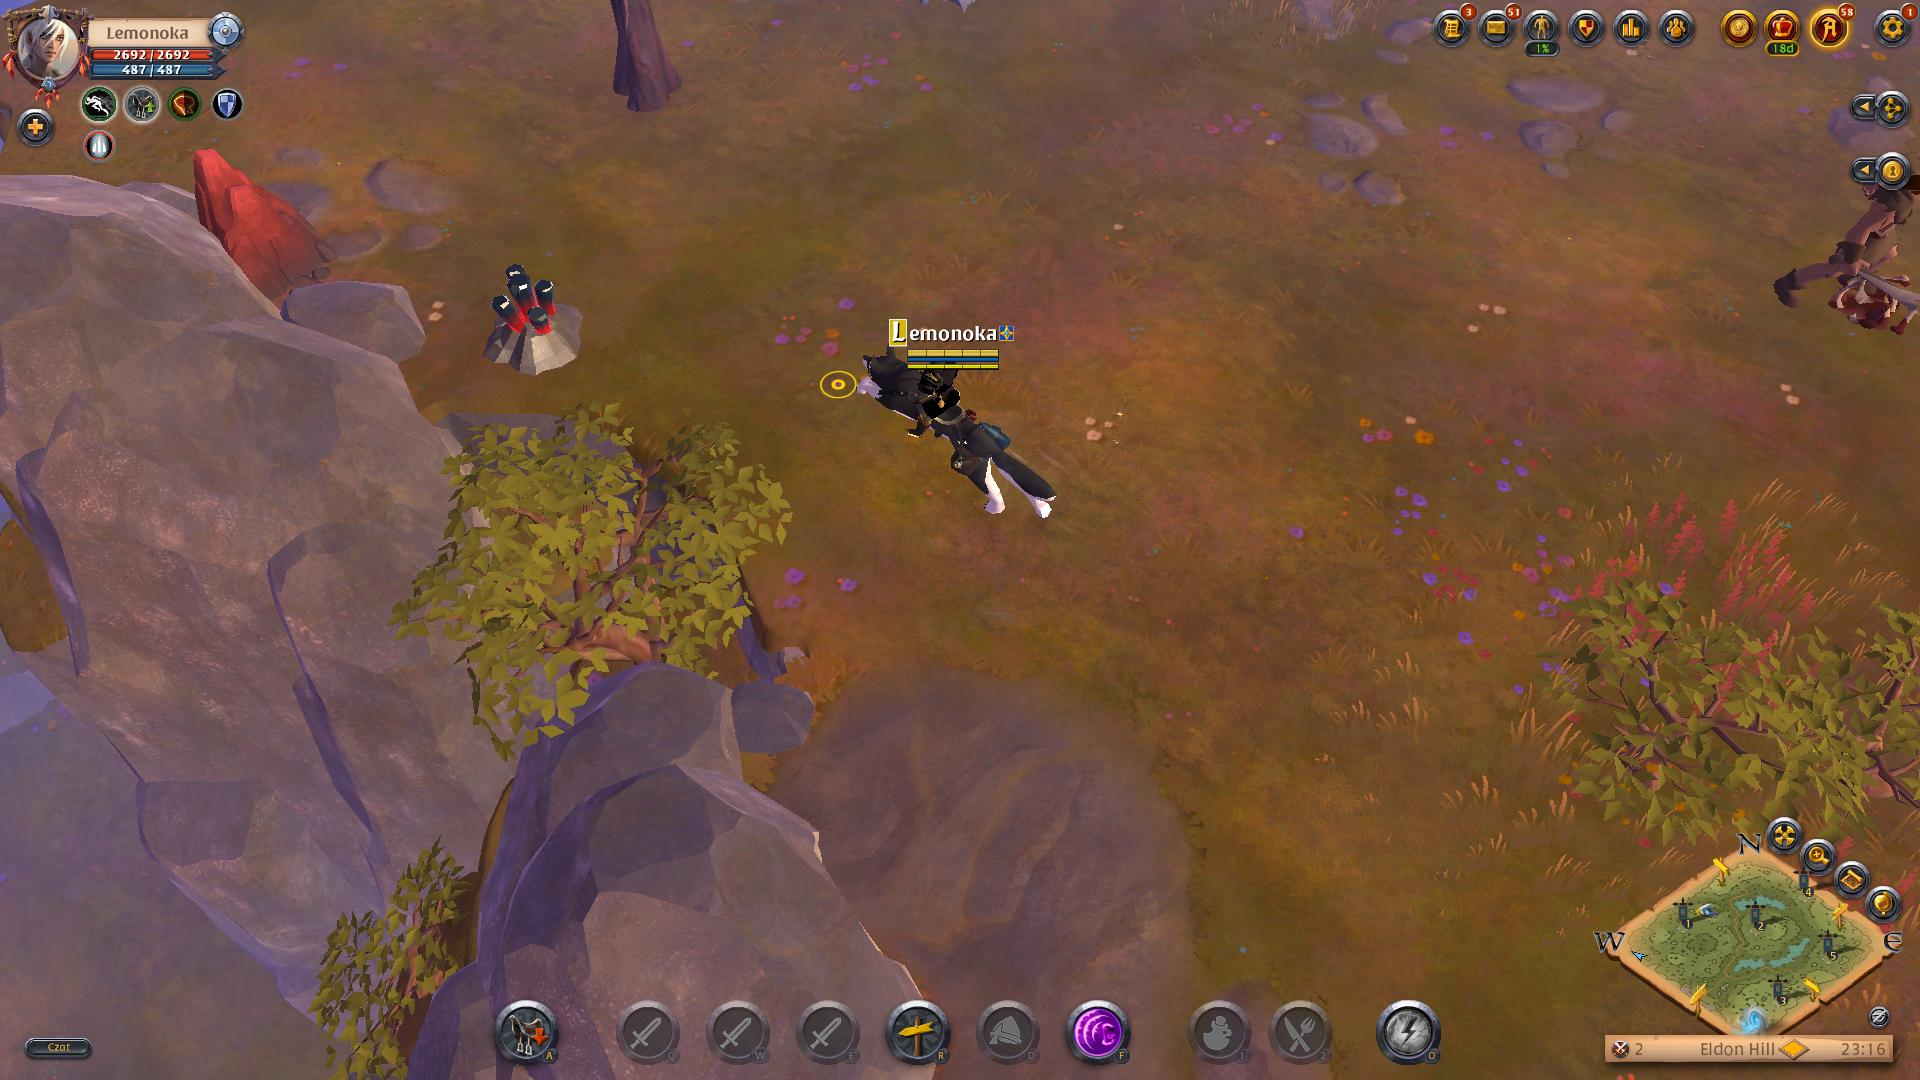ore tier 5: (476, 261, 588, 375)
rock tier 5: (185, 141, 336, 307)
